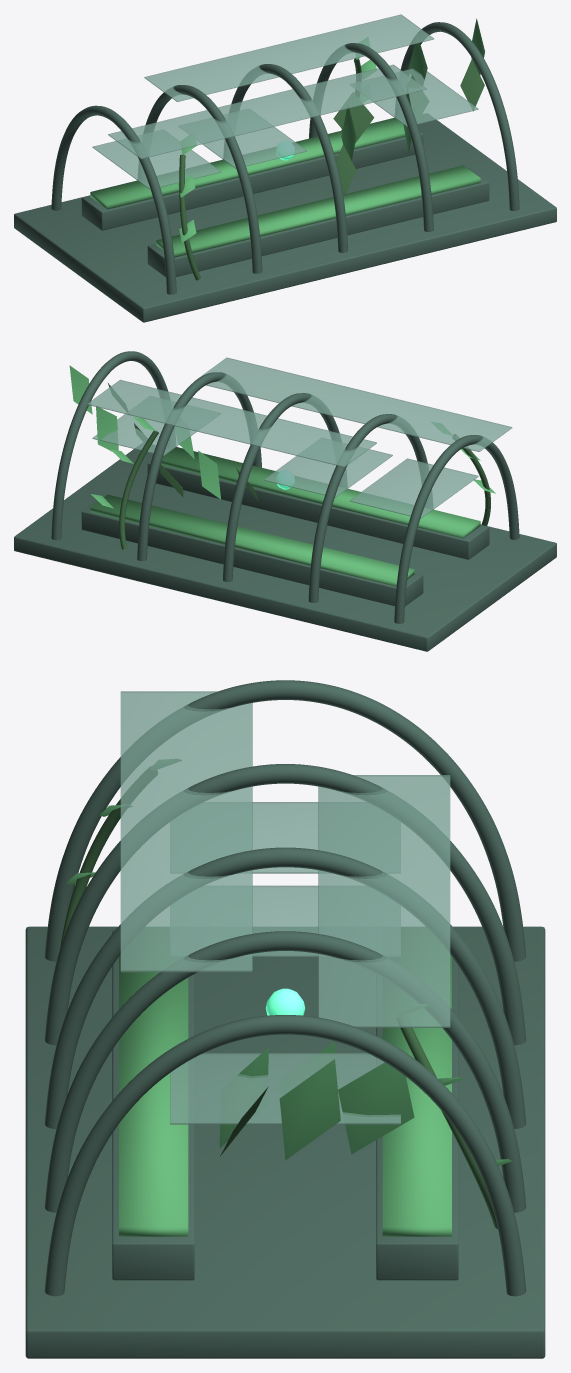
Rendered from verdant-greenhouse.glb.
3 renders of one model, top to bottom at view 1: azimuth 30°, elevation 25°; view 2: azimuth 150°, elevation 25°; view 3: azimuth 270°, elevation 25°, orthographic. The views are drawn at different scales.
Parts seen in each view (by area): view 1: gh_base, gh_roof_left, gh_roof_right, gh_bed_-1, gh_soil_-1, gh_bed_1, gh_soil_1, gh_glass_1, gh_rib_0, gh_glass_0, gh_glass_3, gh_rib_3 (+10 smaller); view 2: gh_base, gh_roof_left, gh_roof_right, gh_bed_1, gh_soil_1, gh_bed_-1, gh_soil_-1, gh_glass_0, gh_glass_1, gh_rib_0, gh_glass_3, gh_rib_3 (+8 smaller); view 3: gh_base, gh_roof_left, gh_roof_right, gh_soil_-1, gh_rib_4, gh_rib_3, gh_rib_2, gh_rib_1, gh_rib_0, gh_soil_1, gh_glass_1, gh_glass_0 (+10 smaller).
Boxes of the visible parts, left/top/right/bottom form: gh_base: left=14, top=114, right=556, bottom=322; gh_roof_left: left=108, top=64, right=426, bottom=159; gh_roof_right: left=144, top=14, right=434, bottom=101; gh_bed_-1: left=147, top=167, right=489, bottom=276; gh_soil_-1: left=156, top=165, right=480, bottom=257; gh_bed_1: left=81, top=132, right=423, bottom=230; gh_soil_1: left=90, top=117, right=405, bottom=209; gh_glass_1: left=179, top=109, right=306, bottom=168; gh_rib_0: left=51, top=105, right=176, bottom=294; gh_glass_0: left=92, top=130, right=221, bottom=189; gh_glass_3: left=350, top=68, right=478, bottom=126; gh_rib_3: left=309, top=43, right=433, bottom=231; gh_base: left=14, top=443, right=556, bottom=651; gh_roof_left: left=194, top=357, right=512, bottom=451; gh_roof_right: left=87, top=379, right=376, bottom=467; gh_bed_1: left=81, top=497, right=423, bottom=606; gh_soil_1: left=90, top=494, right=414, bottom=586; gh_bed_-1: left=147, top=449, right=489, bottom=559; gh_soil_-1: left=161, top=447, right=480, bottom=538; gh_glass_0: left=349, top=458, right=478, bottom=518; gh_glass_1: left=264, top=438, right=392, bottom=497; gh_rib_0: left=394, top=435, right=519, bottom=623; gh_glass_3: left=92, top=396, right=220, bottom=456; gh_rib_3: left=137, top=372, right=261, bottom=561; gh_base: left=25, top=926, right=545, bottom=1358; gh_roof_left: left=120, top=691, right=252, bottom=972; gh_roof_right: left=318, top=775, right=450, bottom=1027; gh_soil_-1: left=119, top=927, right=188, bottom=1236; gh_rib_4: left=44, top=1015, right=526, bottom=1296; gh_rib_3: left=44, top=931, right=526, bottom=1212; gh_rib_2: left=44, top=847, right=526, bottom=1128; gh_rib_1: left=44, top=764, right=526, bottom=1045; gh_rib_0: left=44, top=680, right=526, bottom=961; gh_soil_1: left=382, top=927, right=451, bottom=1236; gh_glass_1: left=170, top=885, right=400, bottom=957; gh_glass_0: left=170, top=802, right=400, bottom=873.
Bounding box in the file's own units: 5.8 × 2.07 × 3.15.
